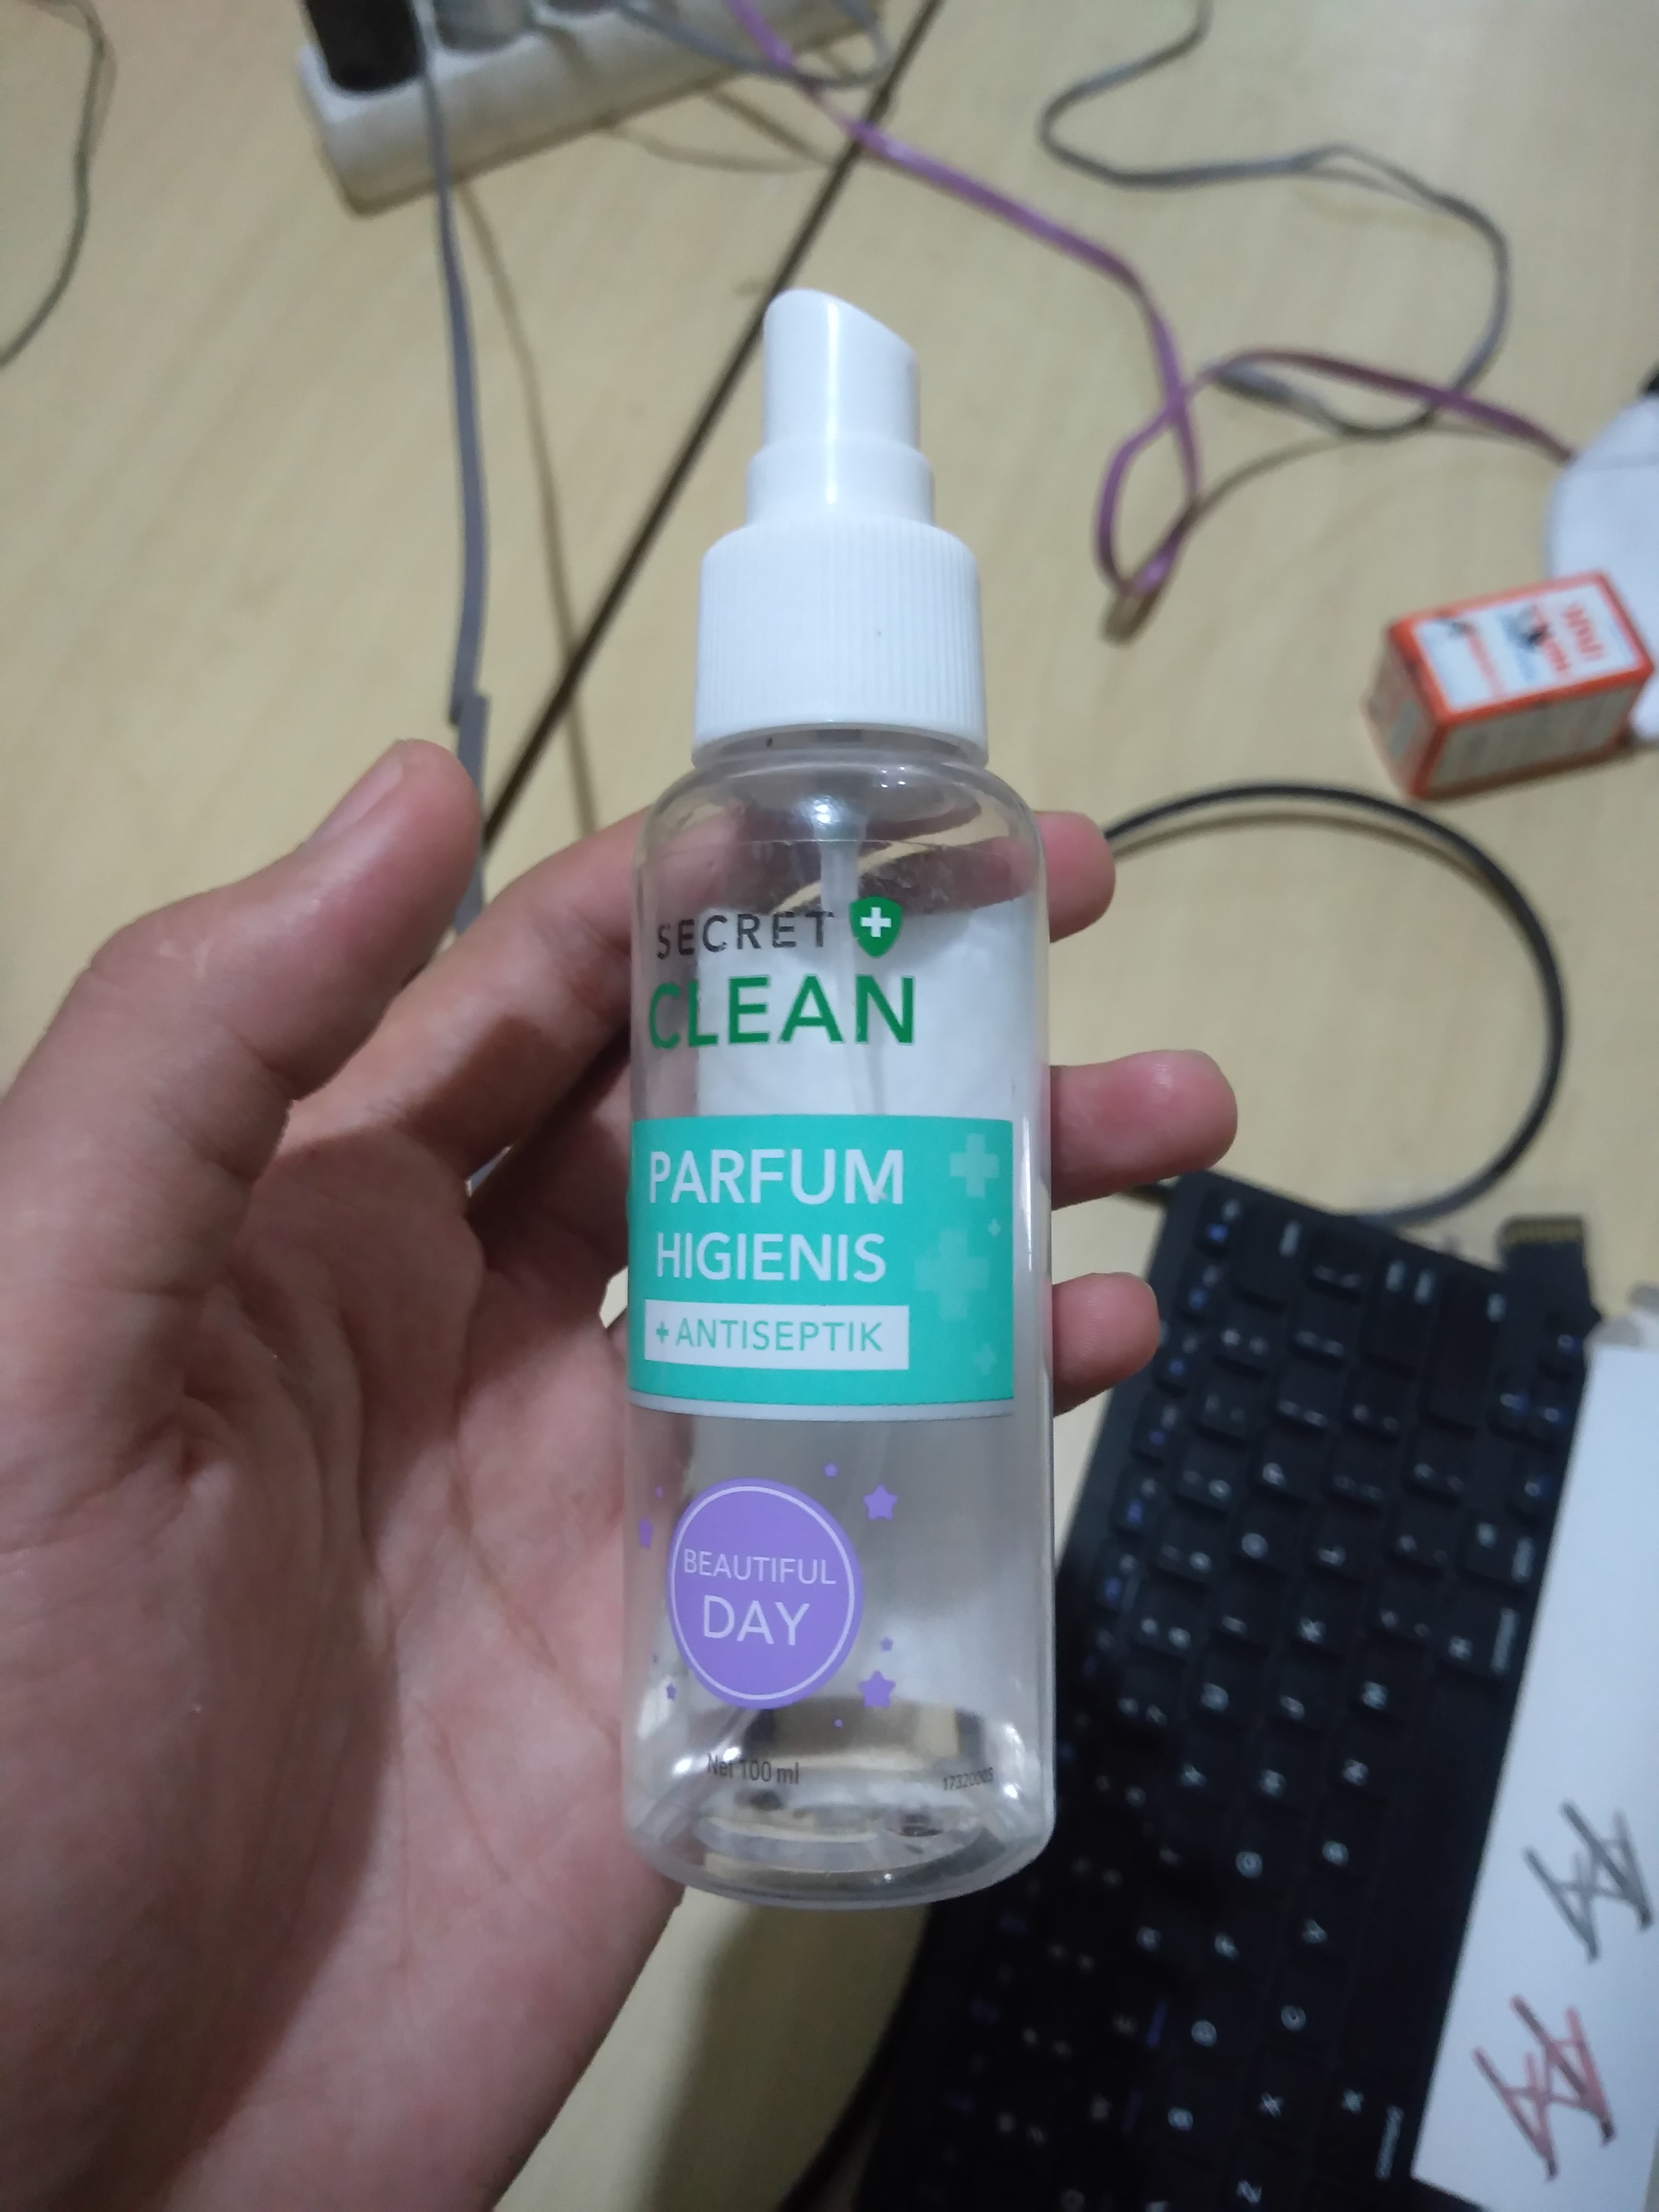hand sanitizer: (559, 167, 1091, 2006)
